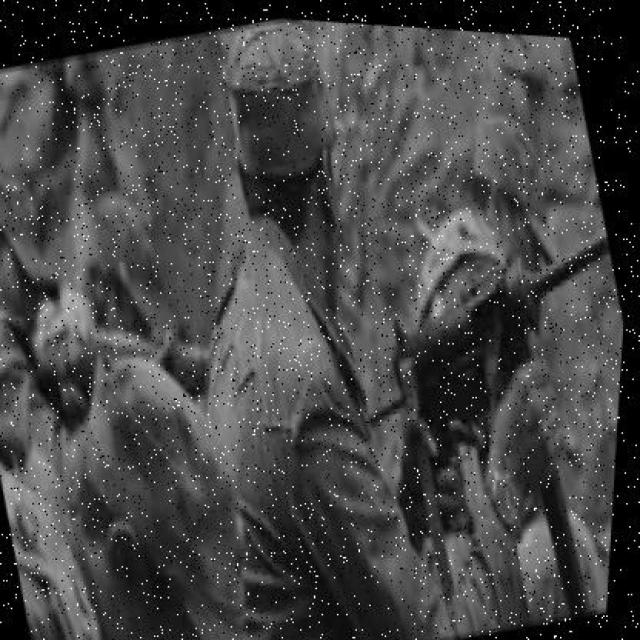weapon: (388, 226, 615, 451)
